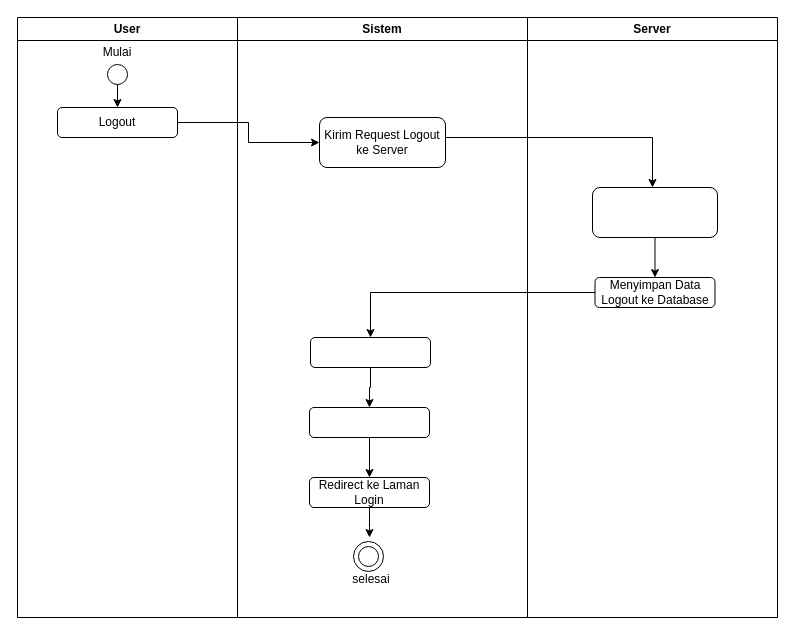
Image size: 795x635. Some labels were removed from this diagram. The shapes that lost their labels are listed below. From the top down, each one's centre as x and y in pixels, then its label:
point 655,212: Hapus Token &Sesion user
point 370,352: Logout Berhasil
point 369,422: Hapus Token dari local Storage
